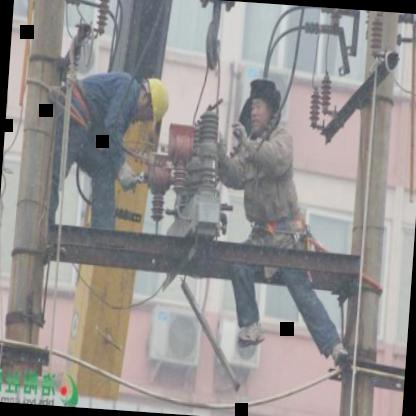head: (238, 73, 286, 146)
helmet: (133, 74, 173, 131)
